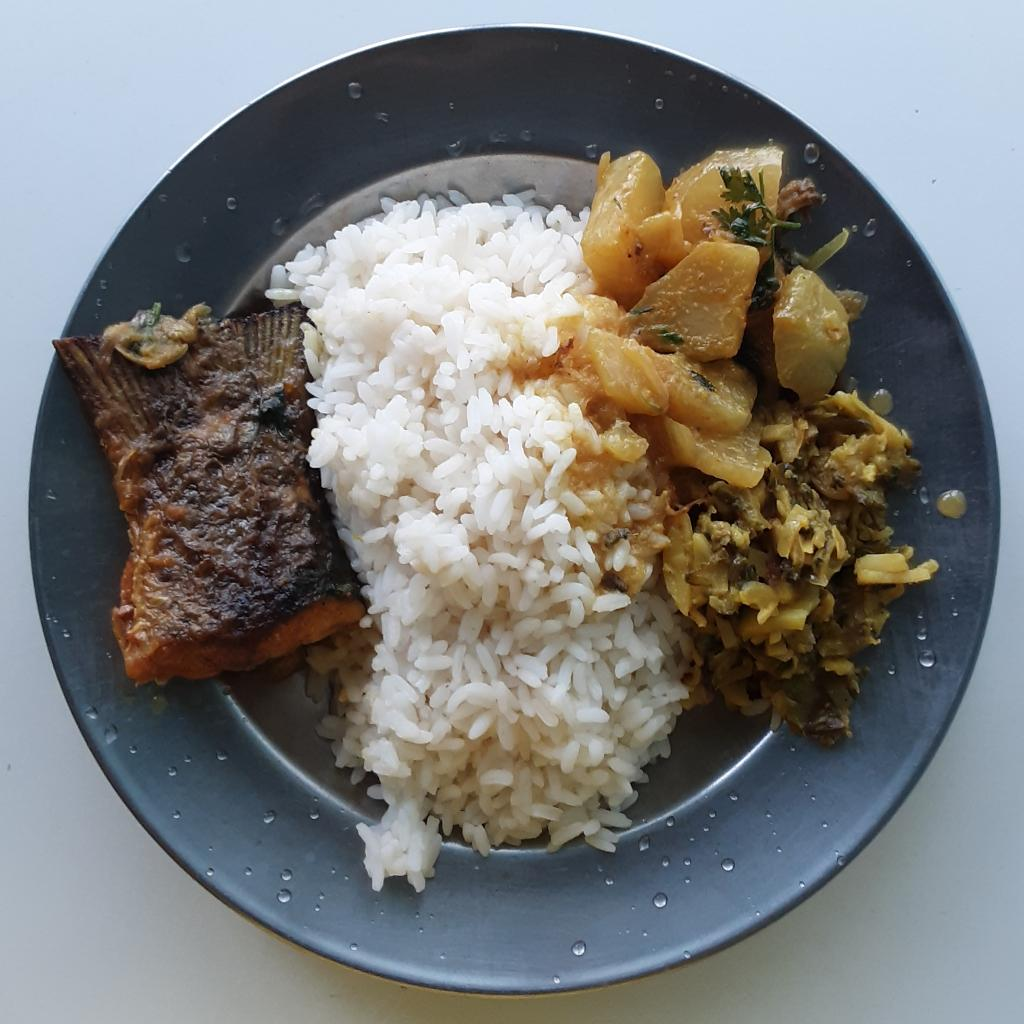dundol: (531, 142, 857, 488)
fish: (52, 300, 364, 694)
korola-vaji: (665, 393, 936, 741)
rice: (262, 186, 687, 898)
